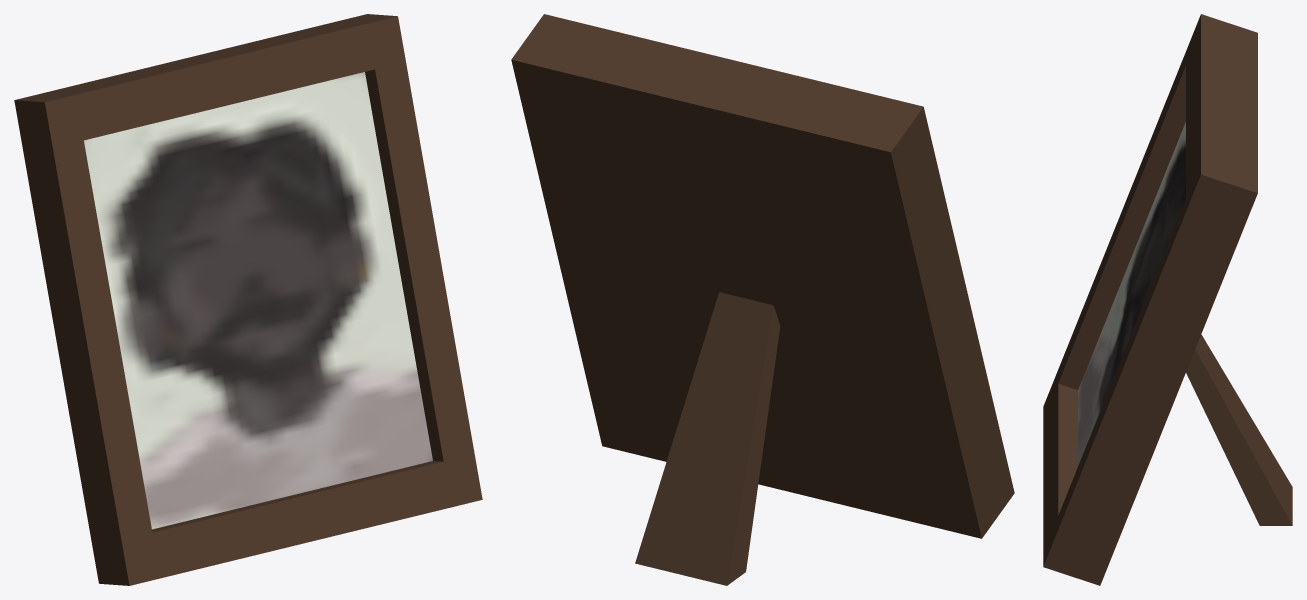
Rendered from 34_prop_frame2.FBX.
3 renders of one model, left to right at view 1: azimuth 30°, elevation 25°; view 2: azimuth 150°, elevation 25°; view 3: azimuth 270°, elevation 25°, orthographic. The views are drawn at different scales.
Visible parts, largest first — view 1: prop_frame2; view 2: prop_frame2; view 3: prop_frame2.
Boxes of the visible parts, box(x1,y1,x2,y2) form: prop_frame2: box(14, 14, 482, 585); prop_frame2: box(511, 14, 1014, 585); prop_frame2: box(1043, 14, 1292, 585).
Size of the model in its own units: 9.96 by 11.93 by 6.54.
